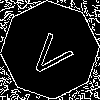V: (25, 25, 81, 82)
